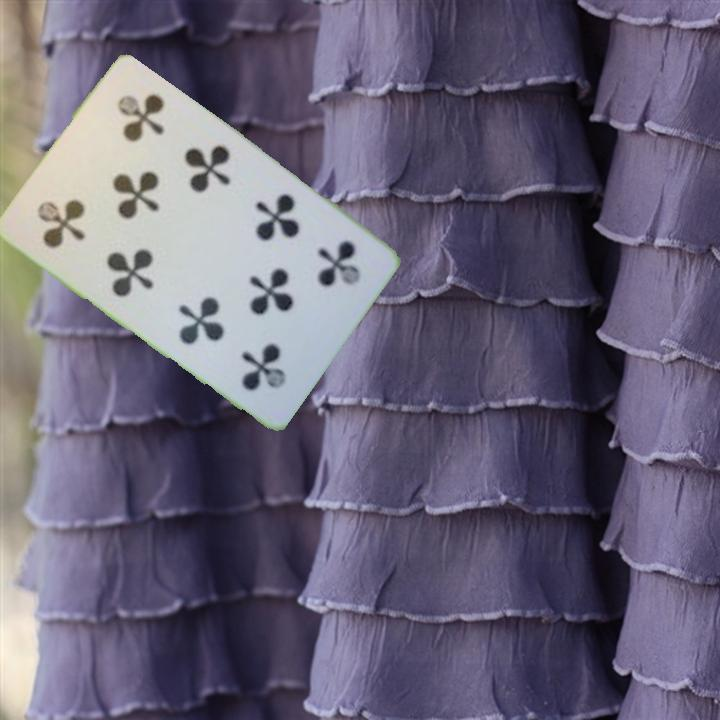c_10.png: (259, 207, 385, 336), (12, 147, 138, 276)
